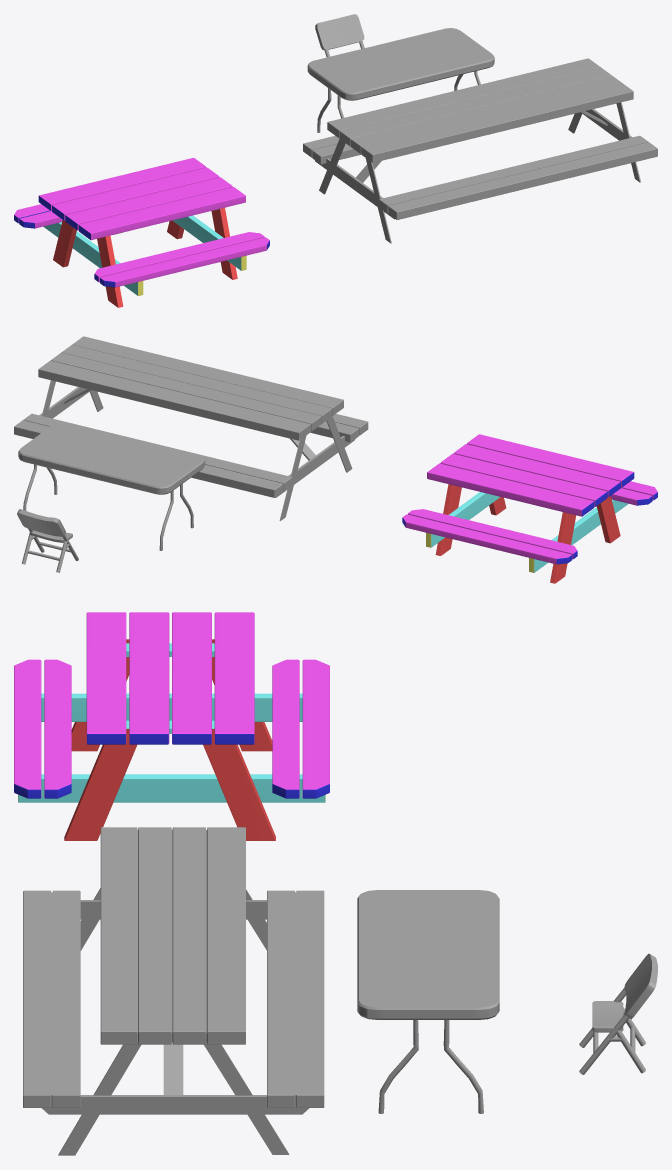
3 renders of one model, top to bottom at view 1: azimuth 30°, elevation 25°; view 2: azimuth 150°, elevation 25°; view 3: azimuth 270°, elevation 25°, orthographic. The views are drawn at different scales.
Visible parts, largest first — view 1: picnicTable_ID, chair_tableAlex:picnicTablepCube1, chair_tableAlex:plasticFoldingTablepCube15, chair_tableAlex:picnicTablepCube12, chair_tableAlex:foldingChairpCube14, chair_tableAlex:picnicTablepCube2, chair_tableAlex:picnicTablepCube7, chair_tableAlex:picnicTablepCube9, chair_tableAlex:picnicTablepCube6, chair_tableAlex:picnicTablepCube8; view 2: picnicTable_ID, chair_tableAlex:picnicTablepCube1, chair_tableAlex:plasticFoldingTablepCube15, chair_tableAlex:picnicTablepCube2, chair_tableAlex:picnicTablepCube12, chair_tableAlex:foldingChairpCube14, chair_tableAlex:picnicTablepCube7, chair_tableAlex:picnicTablepCube8, chair_tableAlex:picnicTablepCube6, chair_tableAlex:picnicTablepCube9; view 3: picnicTable_ID, chair_tableAlex:picnicTablepCube1, chair_tableAlex:plasticFoldingTablepCube15, chair_tableAlex:picnicTablepCube2, chair_tableAlex:picnicTablepCube12, chair_tableAlex:picnicTablepCube6, chair_tableAlex:pCube4picnicTable, chair_tableAlex:picnicTablepCube5, chair_tableAlex:foldingChairpCube14, chair_tableAlex:picnicTablepCube10, chair_tableAlex:foldingChairpCube13, chair_tableAlex:picnicTablepCube7.
Part boxes in pixels (<box>): picnicTable_ID: <box>14,157,269,307</box>; chair_tableAlex:picnicTablepCube1: <box>327,58,633,162</box>; chair_tableAlex:plasticFoldingTablepCube15: <box>307,28,494,100</box>; chair_tableAlex:picnicTablepCube12: <box>379,135,657,219</box>; chair_tableAlex:foldingChairpCube14: <box>315,14,364,50</box>; chair_tableAlex:picnicTablepCube2: <box>303,135,360,164</box>; chair_tableAlex:picnicTablepCube7: <box>315,158,394,219</box>; chair_tableAlex:picnicTablepCube9: <box>365,158,391,243</box>; chair_tableAlex:picnicTablepCube6: <box>582,109,632,140</box>; chair_tableAlex:picnicTablepCube8: <box>319,139,345,194</box>; picnicTable_ID: <box>402,434,657,583</box>; chair_tableAlex:picnicTablepCube1: <box>38,336,343,440</box>; chair_tableAlex:plasticFoldingTablepCube15: <box>18,422,205,494</box>; chair_tableAlex:picnicTablepCube2: <box>14,413,292,497</box>; chair_tableAlex:picnicTablepCube12: <box>310,414,368,442</box>; chair_tableAlex:foldingChairpCube14: <box>17,509,65,536</box>; chair_tableAlex:picnicTablepCube7: <box>275,436,355,497</box>; chair_tableAlex:picnicTablepCube8: <box>279,435,306,520</box>; chair_tableAlex:picnicTablepCube6: <box>39,387,89,418</box>; chair_tableAlex:picnicTablepCube9: <box>326,416,352,472</box>; picnicTable_ID: <box>14,612,329,840</box>; chair_tableAlex:picnicTablepCube1: <box>100,827,245,1044</box>; chair_tableAlex:plasticFoldingTablepCube15: <box>357,890,499,1019</box>; chair_tableAlex:picnicTablepCube2: <box>267,890,324,1107</box>; chair_tableAlex:picnicTablepCube12: <box>23,890,80,1107</box>; chair_tableAlex:picnicTablepCube6: <box>42,1095,309,1114</box>; chair_tableAlex:pCube4picnicTable: <box>58,1042,141,1155</box>; chair_tableAlex:picnicTablepCube5: <box>204,1042,289,1154</box>; chair_tableAlex:foldingChairpCube14: <box>624,953,657,1019</box>; chair_tableAlex:picnicTablepCube10: <box>163,1042,183,1094</box>; chair_tableAlex:foldingChairpCube13: <box>592,1001,623,1032</box>; chair_tableAlex:picnicTablepCube7: <box>80,900,266,919</box>.
Size of the model in its own units: 8.3 by 1.15 by 5.22.
